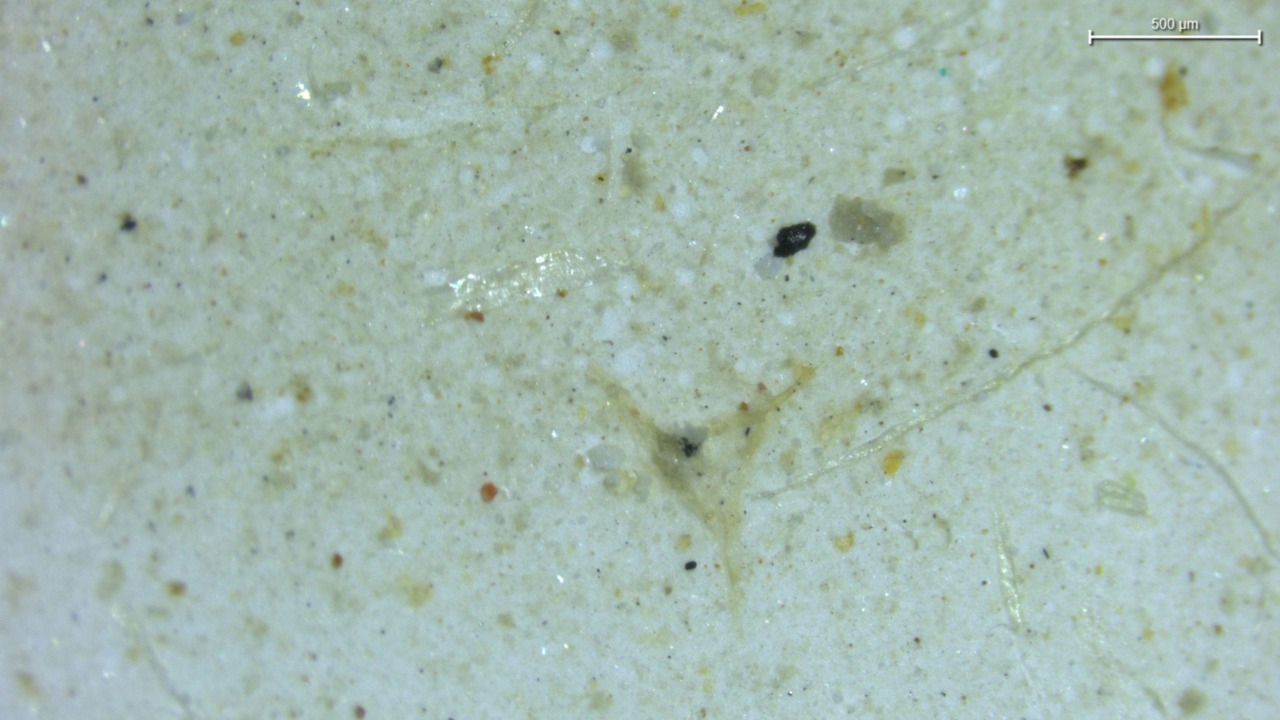microplastic_fragment: (773, 222, 816, 257), (587, 444, 624, 469)
